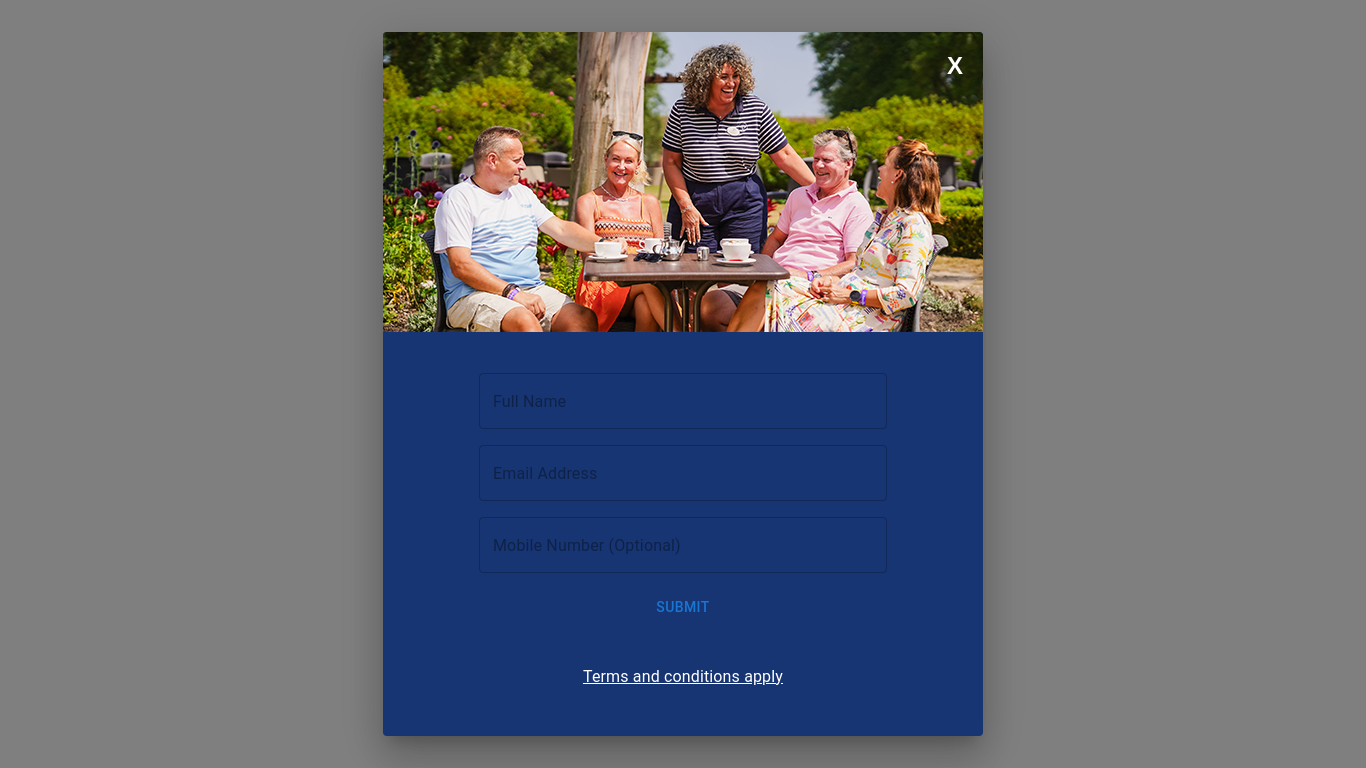
Test: SaveOnNextBreakModal › shows validation errors when submitting empty form
(page scrolled)
Click the button "Submit". click: (683,607)
box: [479,589,887,626]
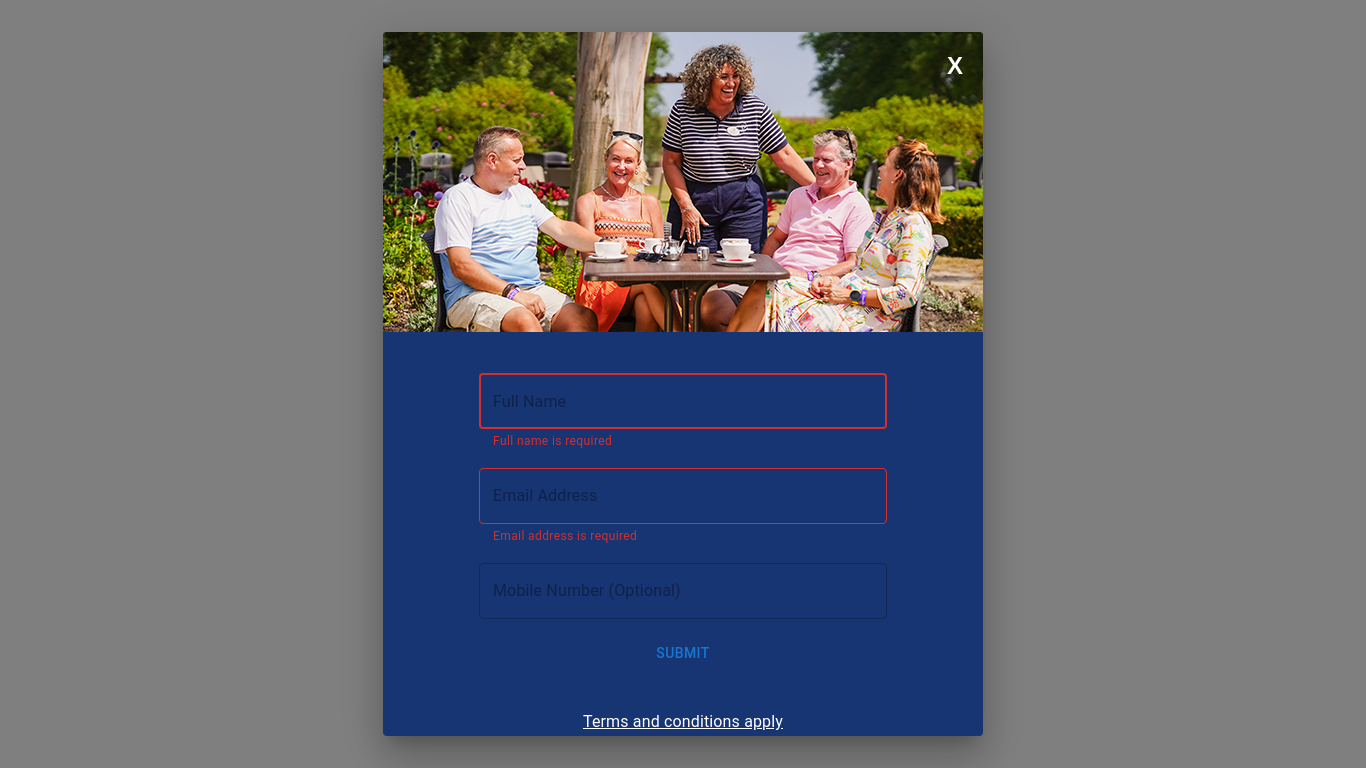
Expected: the text "Full name is required" is shown 2 times, [493,434,612,448]; [493,529,637,543]
Expected: the text "Full name is required" is shown, [493,434,612,448]
Expected: the text "Email address is required" is shown, [493,529,637,543]
